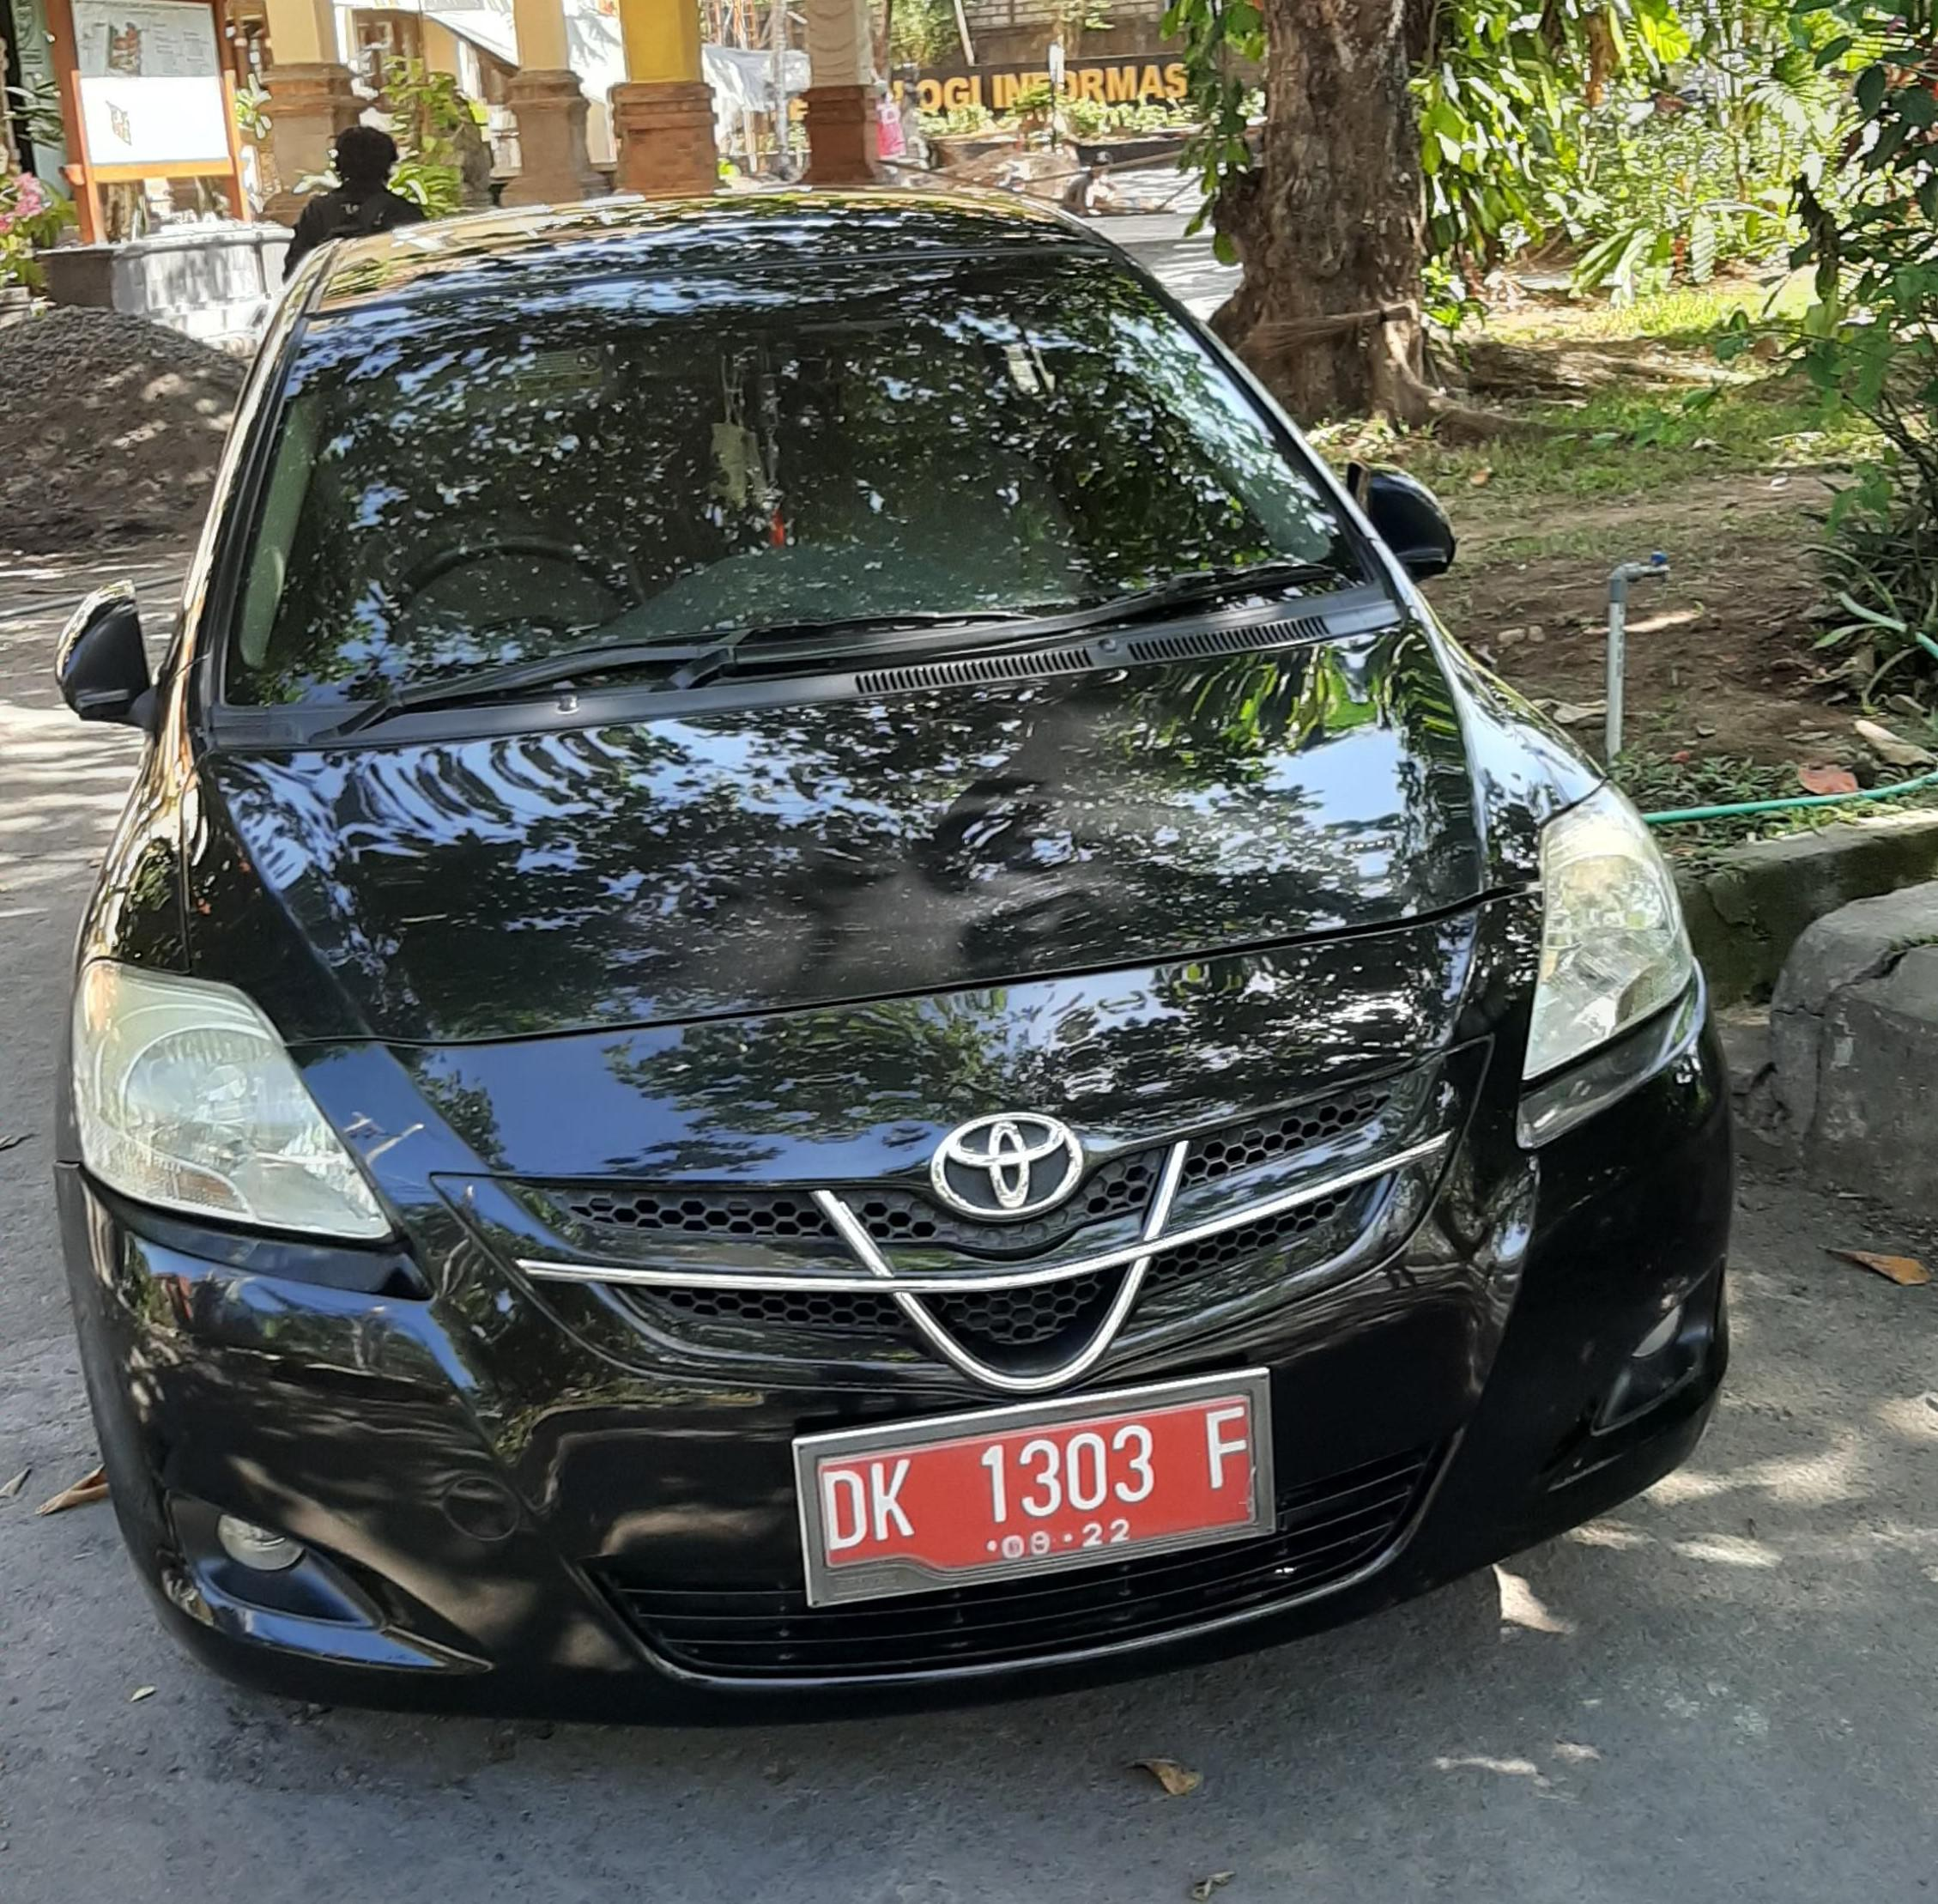plate: (815, 1394, 1254, 1574)
